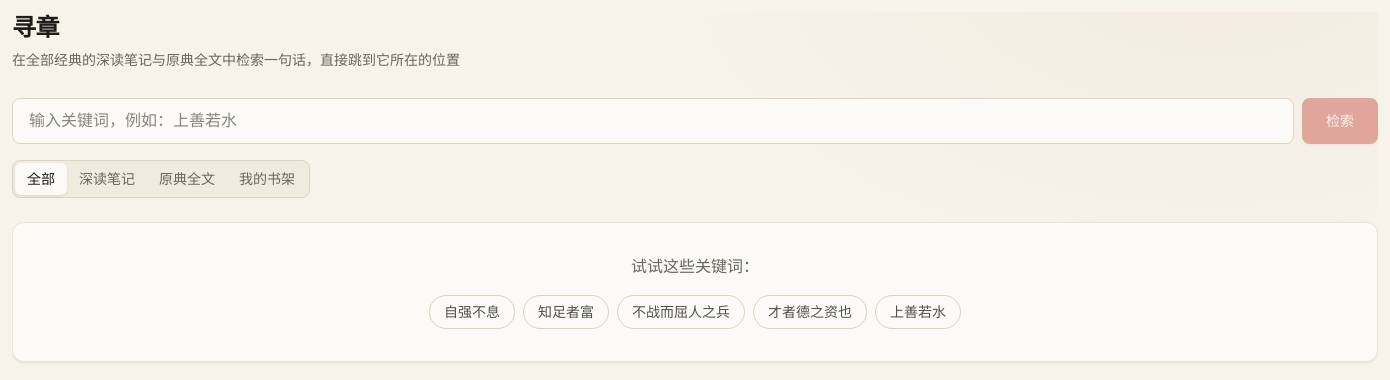
Scenario: 寻章页面 › 空结果给出提示
Type "zzz" into the field named "检索关键词" at point(653, 121), box [12, 98, 1294, 144]
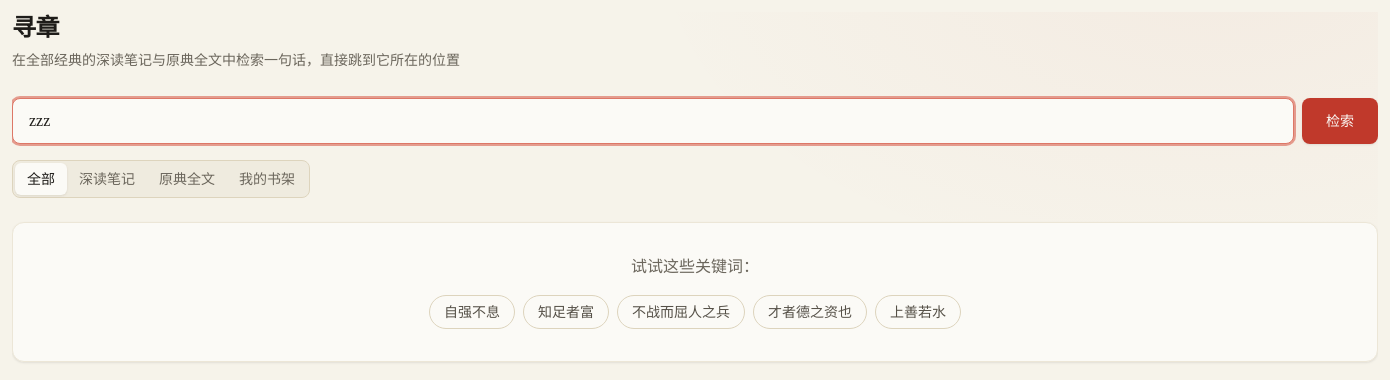
Click the button "检索" at point(1340, 121), box [1302, 98, 1378, 144]
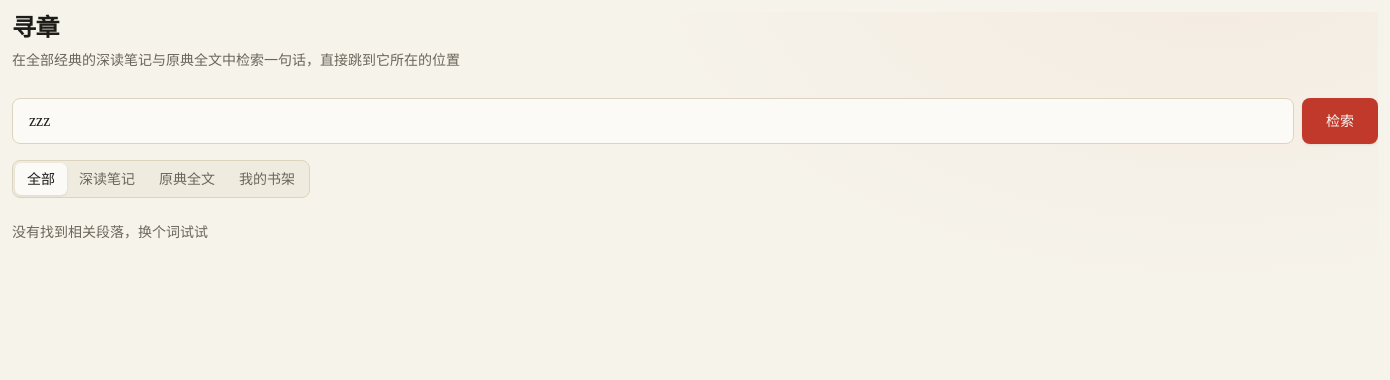
Check: the text "没有找到相关段落，换个词试试" is shown, box [12, 222, 208, 241]
